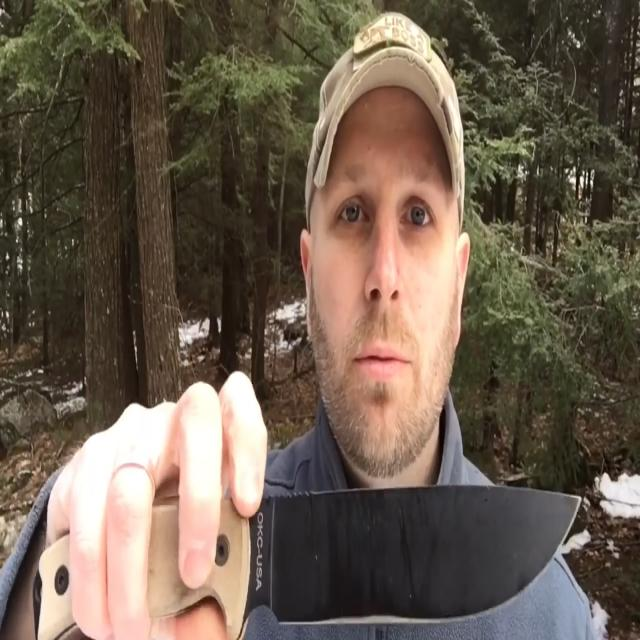knife: (32, 482, 596, 640)
